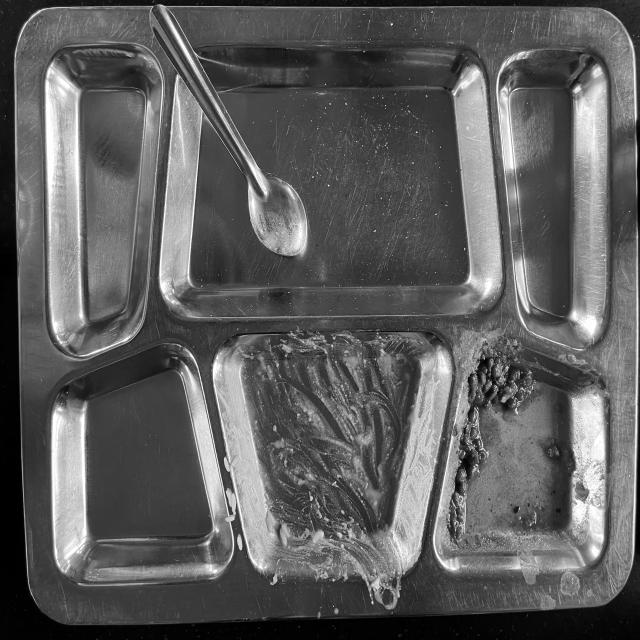0.5- Food Left: (34, 28, 616, 593)
